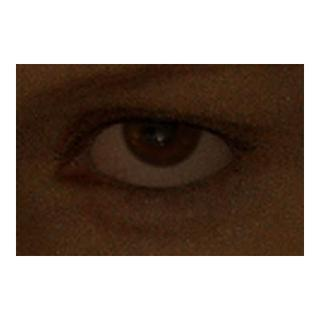pupil: (145, 111, 176, 142)
